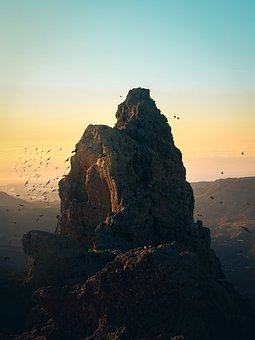sky: (3, 5, 254, 187)
stone: (54, 92, 224, 330)
